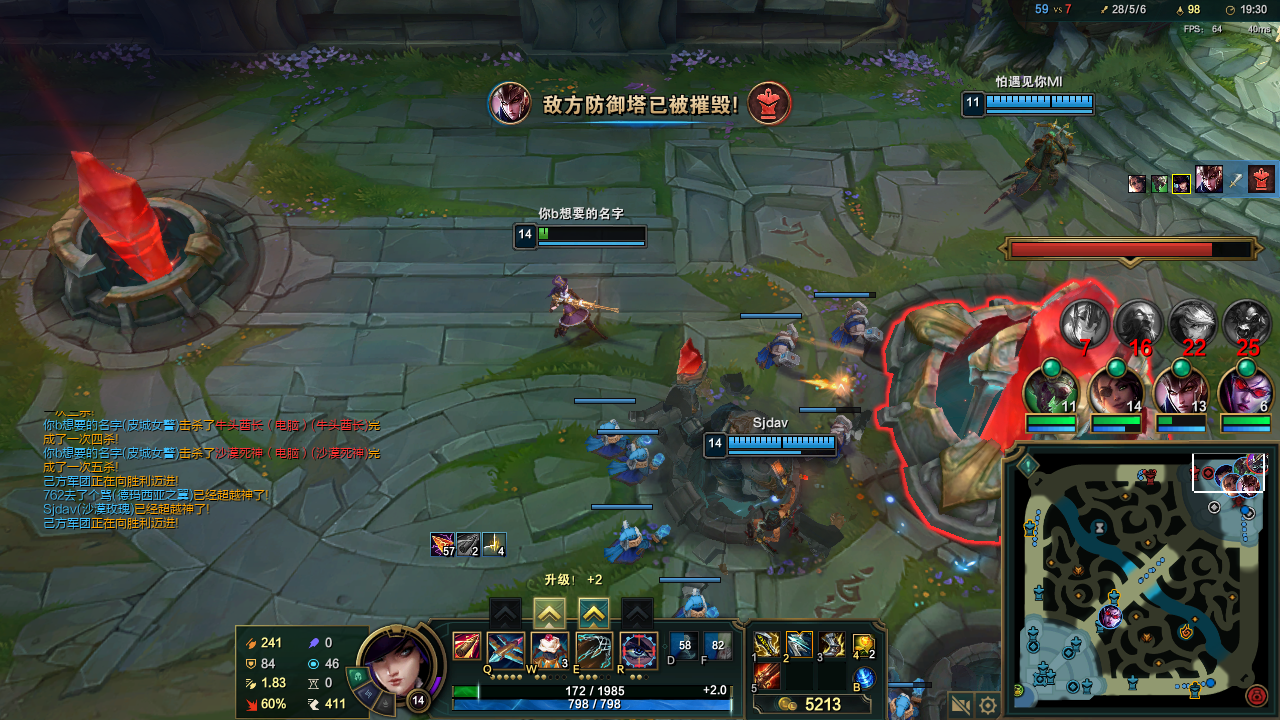DFDSJ: (886, 235, 1056, 509)
WFXB: (752, 327, 801, 376), (606, 516, 658, 561), (606, 442, 656, 476), (831, 311, 870, 346), (588, 418, 623, 452), (680, 586, 708, 617), (889, 703, 917, 716)
